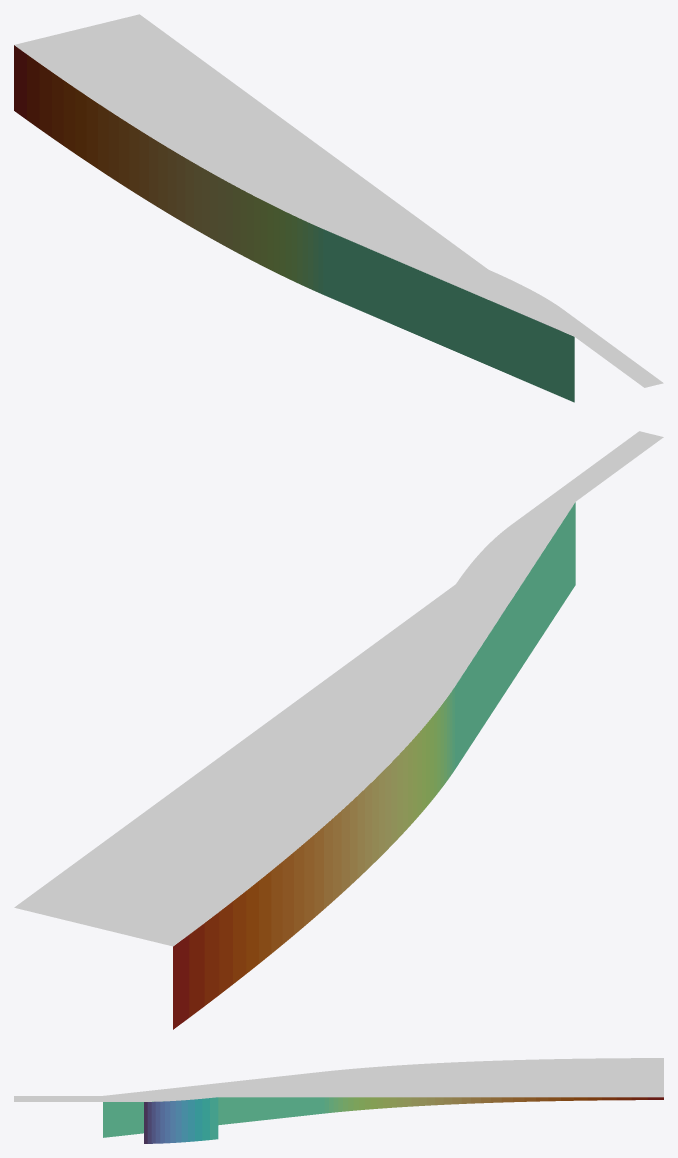
The model's file is scramjet_n38_m14.glb.
3 views of the same model, one above another, from view 1: azimuth 30°, elevation 25°; view 2: azimuth 150°, elevation 25°; view 3: azimuth 270°, elevation 25° (orthographic). The views are drawn at different scales.
Parts seen in each view (by area): view 1: Renderer Node; view 2: Renderer Node; view 3: Renderer Node.
Boxes of the visible parts, x1,y1,x2,y2 form: Renderer Node: [14, 14, 663, 402]; Renderer Node: [14, 431, 663, 1029]; Renderer Node: [14, 1058, 663, 1143].
Bounding box in the file's own units: 1.12 × 0.5006 × 7.02.
